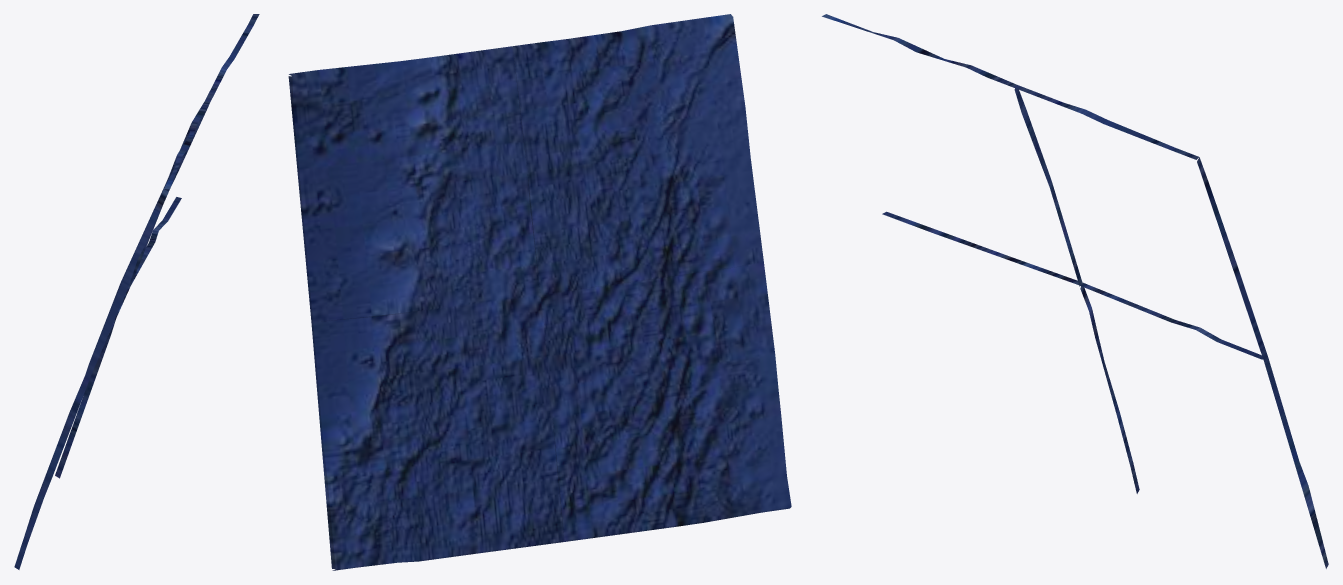
3 renders of one model, left to right at view 1: azimuth 30°, elevation 25°; view 2: azimuth 150°, elevation 25°; view 3: azimuth 270°, elevation 25°, orthographic. The views are drawn at different scales.
Size of the model in its own units: 558237 by 595467 by 585473.
Materials: 1 (1 with a texture image).
